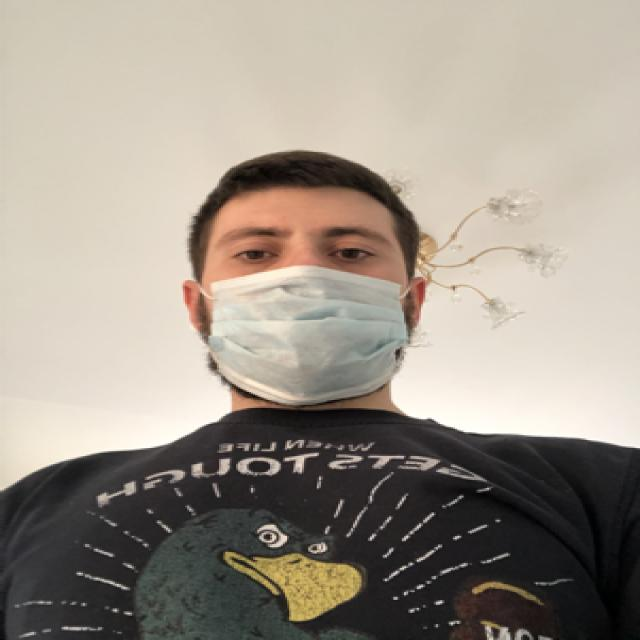mask: (204, 213, 410, 403)
